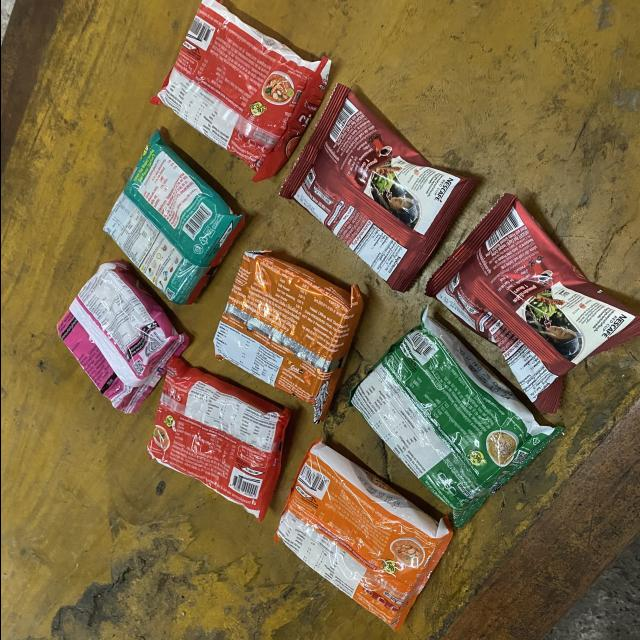plastik: (425, 194, 640, 413), (349, 311, 562, 527), (279, 84, 475, 292), (275, 439, 452, 630), (150, 0, 330, 181), (213, 251, 363, 422), (102, 132, 243, 305), (146, 356, 290, 522), (56, 261, 188, 413)
